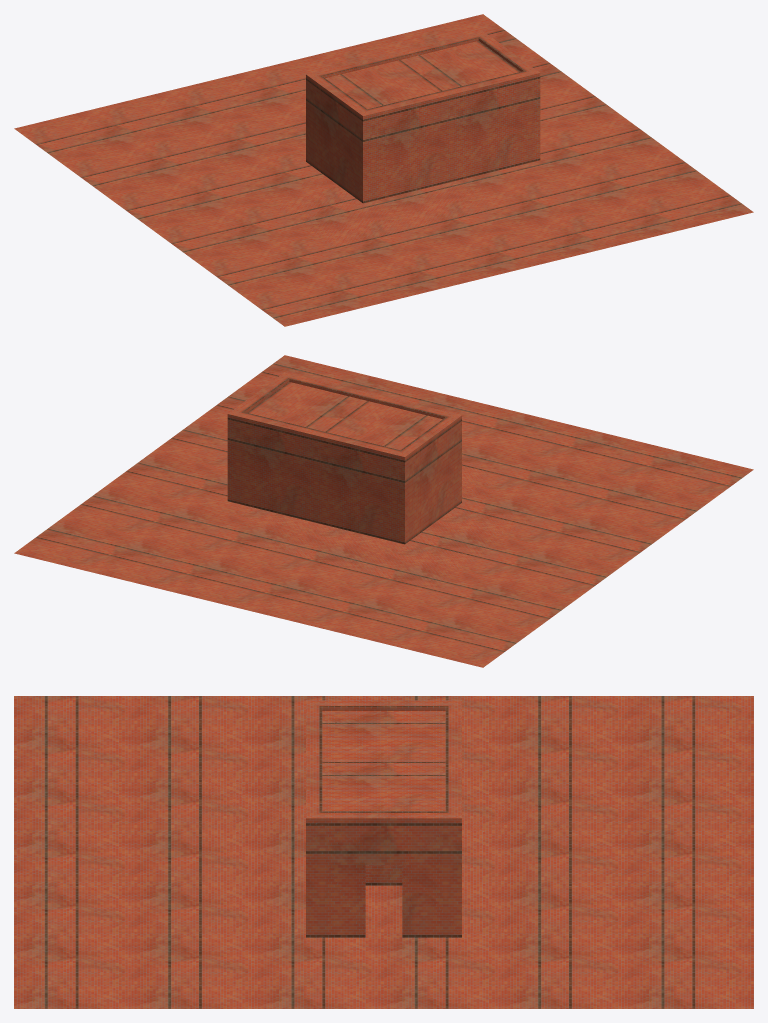
The model's file is Roof.fbx.
The picture shows the model from 3 angles, top to bottom: view 1: azimuth 30°, elevation 25°; view 2: azimuth 150°, elevation 25°; view 3: azimuth 270°, elevation 25°; orthographic projection. The views are drawn at different scales.
Parts seen in each view (by area): view 1: Ground_Roof_6X6, Cage_Stair_Roof, Ground_Roof_3X3, Ground_Roof_2X2, Ground_Roof_1X3; view 2: Ground_Roof_6X6, Cage_Stair_Roof, Ground_Roof_3X3; view 3: Ground_Roof_6X6, Cage_Stair_Roof, Ground_Roof_3X3, Ground_Roof_2X2, Ground_Roof_1X2, Ground_Roof_Border_Corner, Ground_Roof_1X3.
Boxes of the visible parts, box(x1,y1,x2,y2) form: Ground_Roof_6X6: box(14, 14, 753, 326); Cage_Stair_Roof: box(306, 31, 540, 203); Ground_Roof_3X3: box(199, 123, 457, 248); Ground_Roof_2X2: box(374, 178, 497, 229); Ground_Roof_1X3: box(280, 188, 356, 215); Ground_Roof_6X6: box(14, 355, 753, 667); Cage_Stair_Roof: box(227, 372, 461, 544); Ground_Roof_3X3: box(232, 464, 568, 589); Ground_Roof_6X6: box(14, 696, 753, 1008); Cage_Stair_Roof: box(306, 700, 461, 937); Ground_Roof_3X3: box(199, 774, 568, 930); Ground_Roof_2X2: box(199, 826, 402, 930); Ground_Roof_1X2: box(365, 885, 402, 930); Ground_Roof_Border_Corner: box(365, 865, 402, 885); Ground_Roof_1X3: box(365, 885, 402, 930).
Bounding box in the file's own units: 1800 × 340 × 1800.
